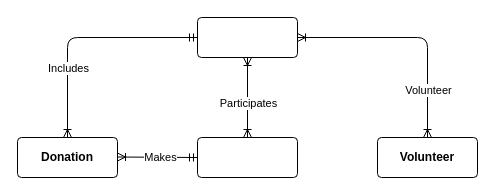
The diagram is 495 pixels wide and 195 high, and some of its shapes have lost their labels. The centre of each missing label's shape, as x and y in pixels:
"Donor" goes at point 247,157.
"Event" goes at point 247,37.
